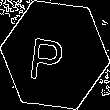P_N: (35, 27, 75, 83)
